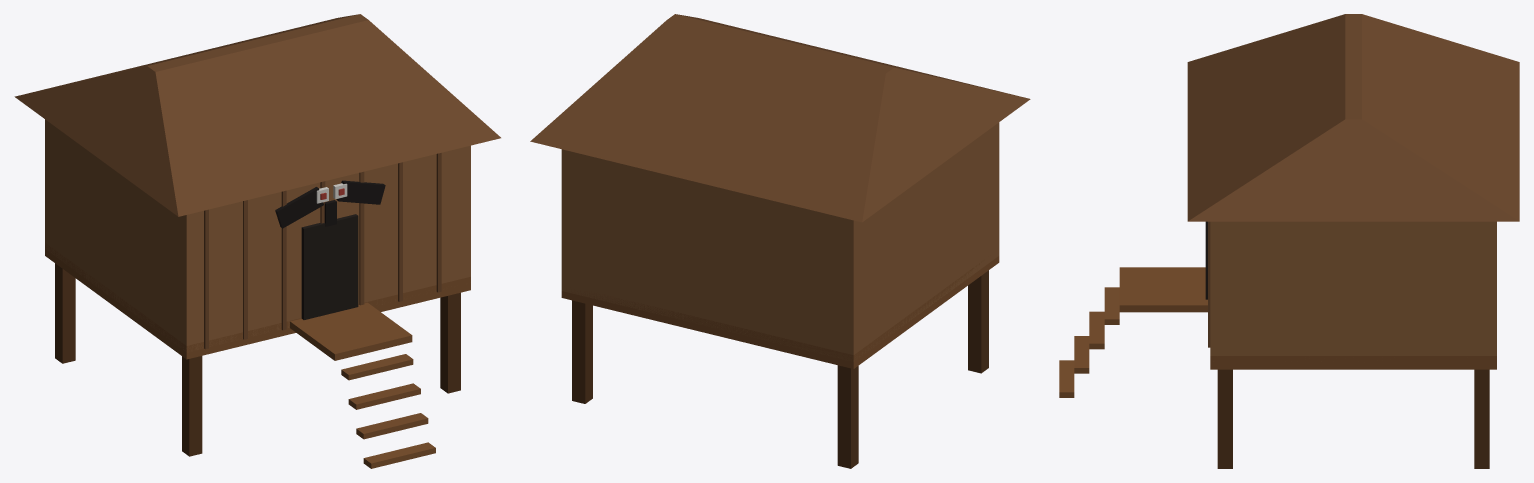
Rendered from bird_house_a.glb.
3 renders of one model, left to right at view 1: azimuth 30°, elevation 25°; view 2: azimuth 150°, elevation 25°; view 3: azimuth 270°, elevation 25°, orthographic. The views are drawn at different scales.
Visible parts, largest first — view 1: bird_house_a; view 2: bird_house_a; view 3: bird_house_a.
Boxes of the visible parts, <box> form: bird_house_a: <box>14,14,500,468</box>; bird_house_a: <box>530,14,1030,468</box>; bird_house_a: <box>1059,14,1519,468</box>.
Bounding box in the file's own units: 2.5 × 2.45 × 3.05.
